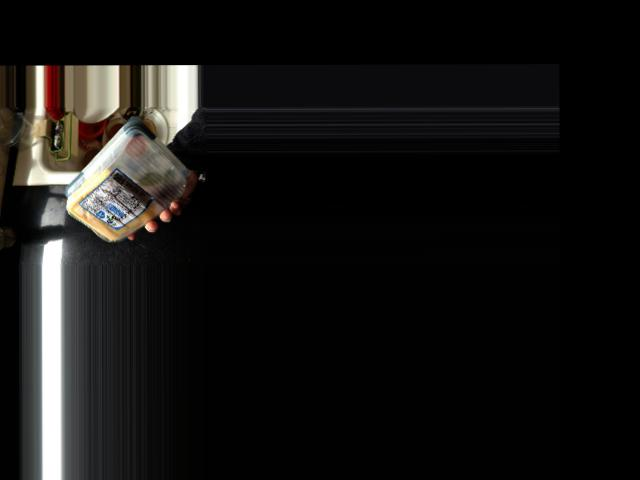cheese: (63, 134, 189, 234)
